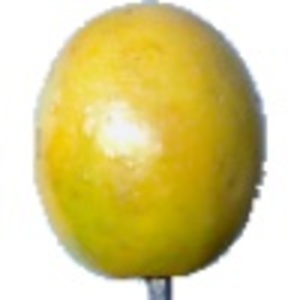maracujá: (29, 1, 268, 300)
